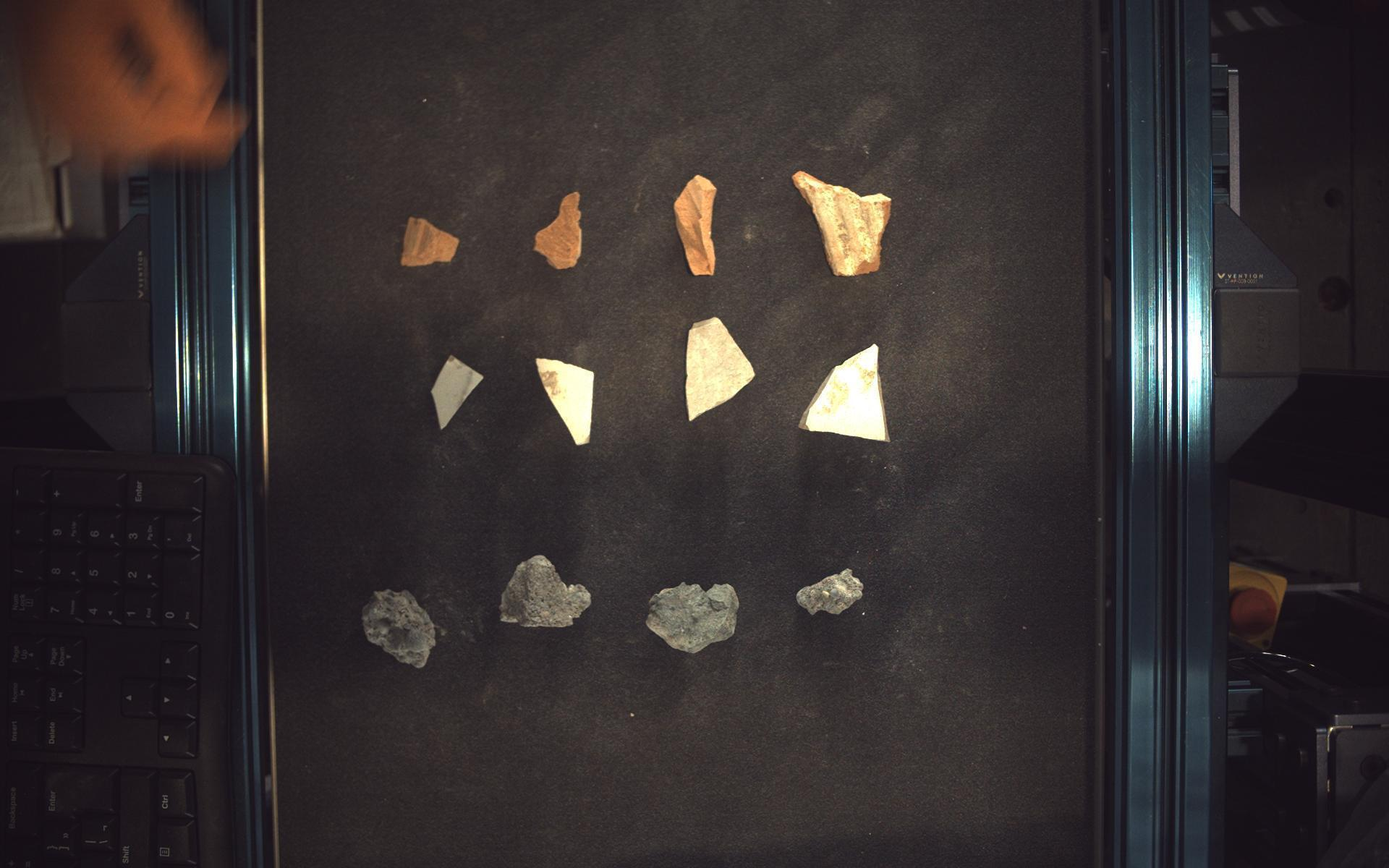brick: (794, 171, 893, 276), (675, 174, 718, 275), (535, 191, 582, 269), (401, 216, 459, 266)
concrete: (647, 584, 740, 655), (501, 556, 591, 629), (362, 590, 436, 669), (799, 569, 864, 616)
tile: (800, 344, 891, 441), (687, 317, 755, 421), (536, 358, 594, 445), (431, 355, 484, 430)
